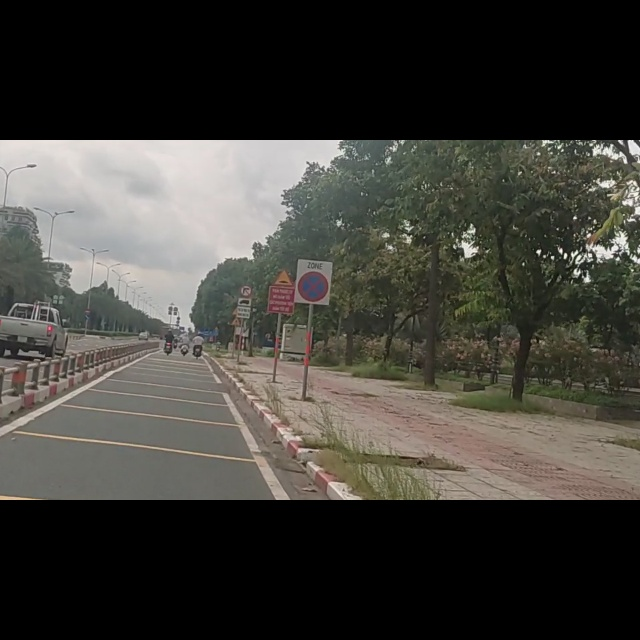bien_cam: (295, 211, 331, 295), (273, 228, 293, 260), (236, 280, 251, 318), (239, 258, 252, 280)
